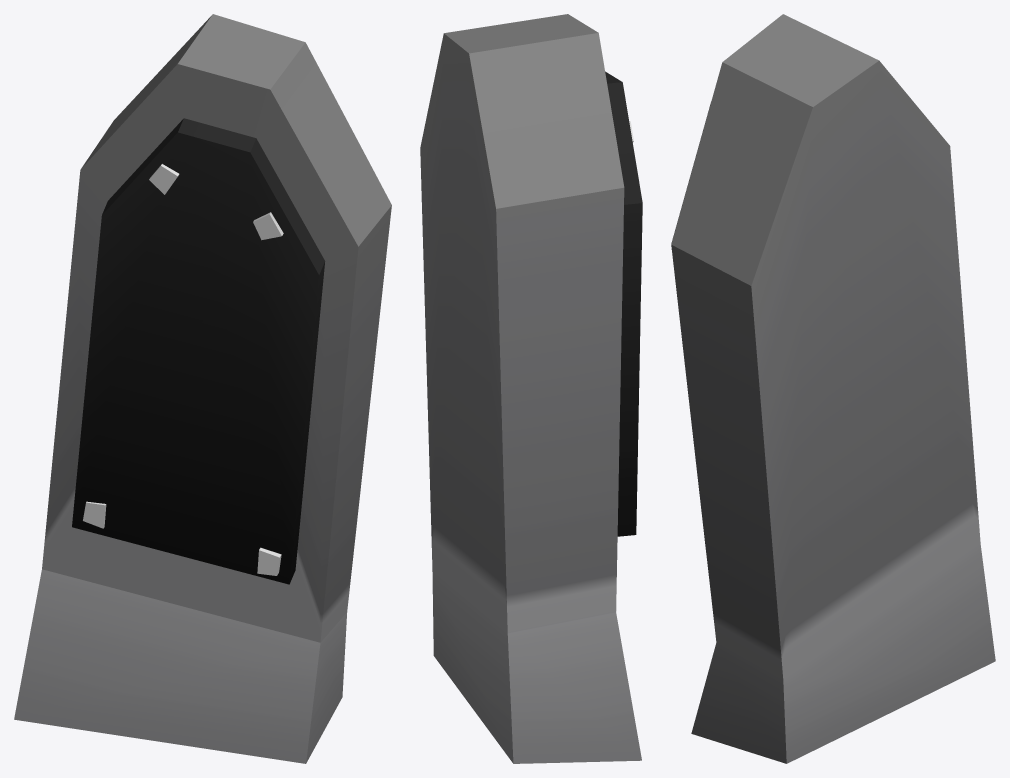
Rendered from ea_grave_stone_mini_02a_pre__4__lev1.glb.
3 renders of one model, left to right at view 1: azimuth 30°, elevation 25°; view 2: azimuth 150°, elevation 25°; view 3: azimuth 270°, elevation 25°, orthographic. The views are drawn at different scales.
Parts seen in each view (by area): view 1: ea_grave_stone_mini_02a_pre__4__lev1; view 2: ea_grave_stone_mini_02a_pre__4__lev1; view 3: ea_grave_stone_mini_02a_pre__4__lev1.
Boxes of the visible parts, x1,y1,x2,y2 form: ea_grave_stone_mini_02a_pre__4__lev1: [14, 14, 391, 763]; ea_grave_stone_mini_02a_pre__4__lev1: [420, 14, 642, 763]; ea_grave_stone_mini_02a_pre__4__lev1: [671, 14, 995, 763].
Bounding box in the file's own units: 0.4588 × 0.9954 × 0.4305.
Materials: 2 (1 with a texture image).
